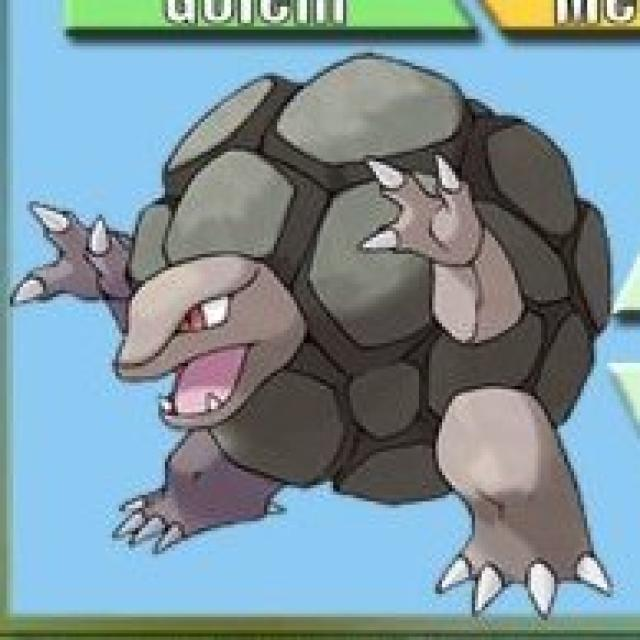Golem: (118, 49, 608, 526)
